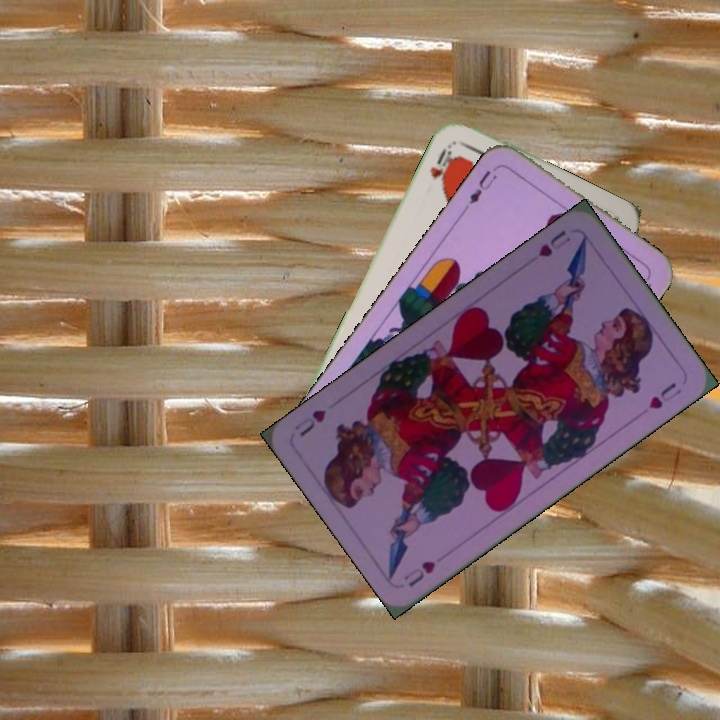EU: (465, 166, 500, 207)
HO: (425, 141, 461, 189)
HU: (534, 225, 574, 260), (399, 556, 438, 590)
